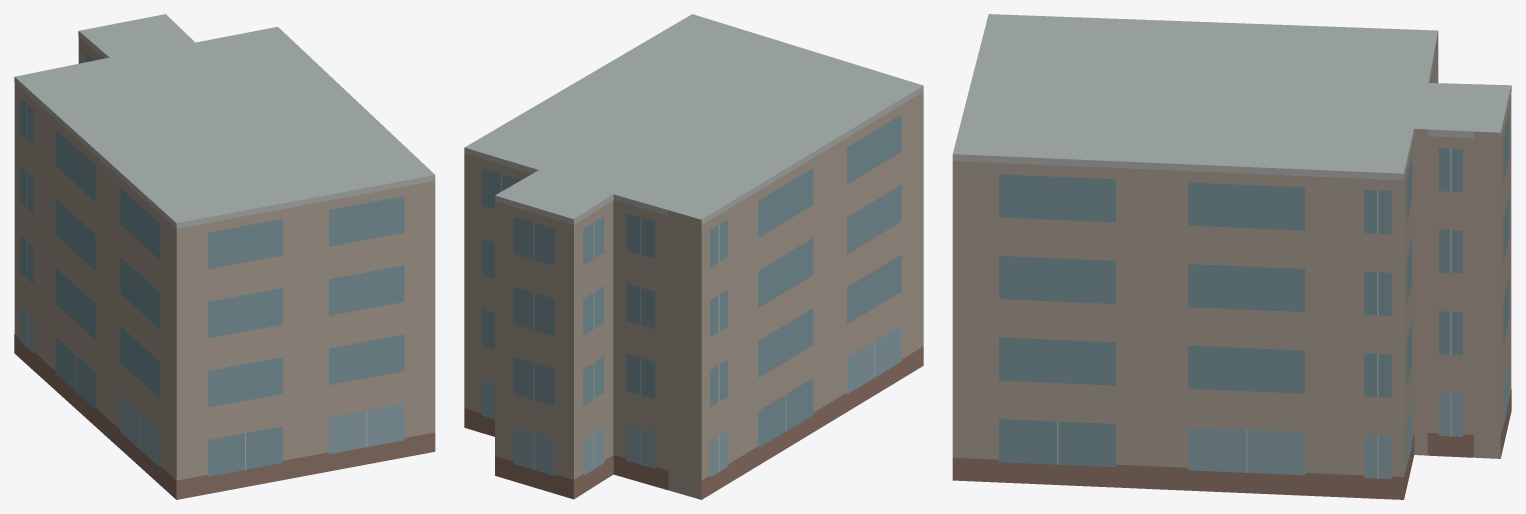
Rendered from survey-upis-32933458.glb.
3 views of the same model, side by side, from view 1: azimuth 30°, elevation 25°; view 2: azimuth 150°, elevation 25°; view 3: azimuth 270°, elevation 25° (orthographic). The views are drawn at different scales.
Parts seen in each view (by area): view 1: survey-upis-32933458.tmp; view 2: survey-upis-32933458.tmp; view 3: survey-upis-32933458.tmp.
Boxes of the visible parts, x1=… form: survey-upis-32933458.tmp: x1=14, y1=14, x2=435, y2=499; survey-upis-32933458.tmp: x1=464, y1=14, x2=923, y2=499; survey-upis-32933458.tmp: x1=952, y1=14, x2=1511, y2=499.
Size of the model in its own units: 12.39 by 11.8 by 18.33.
